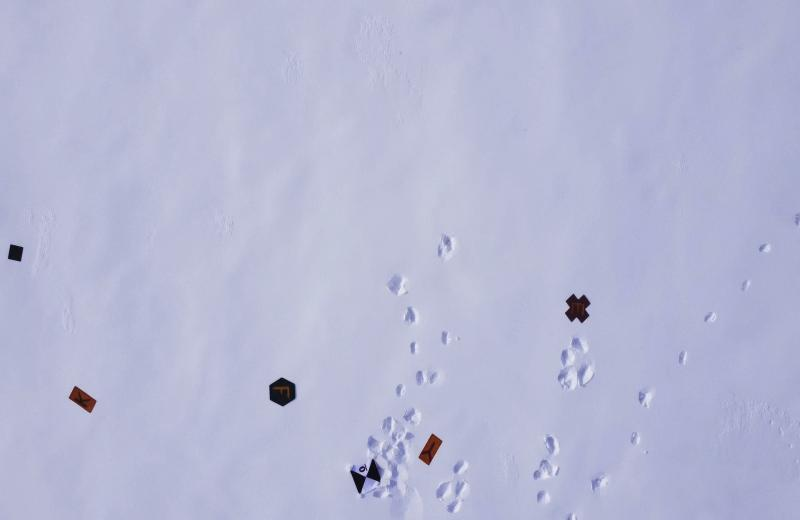Cross: (561, 290, 591, 324)
Hexagon: (269, 375, 297, 408)
Rectangle: (67, 384, 101, 417), (418, 430, 442, 468)
Square: (5, 241, 26, 265)
